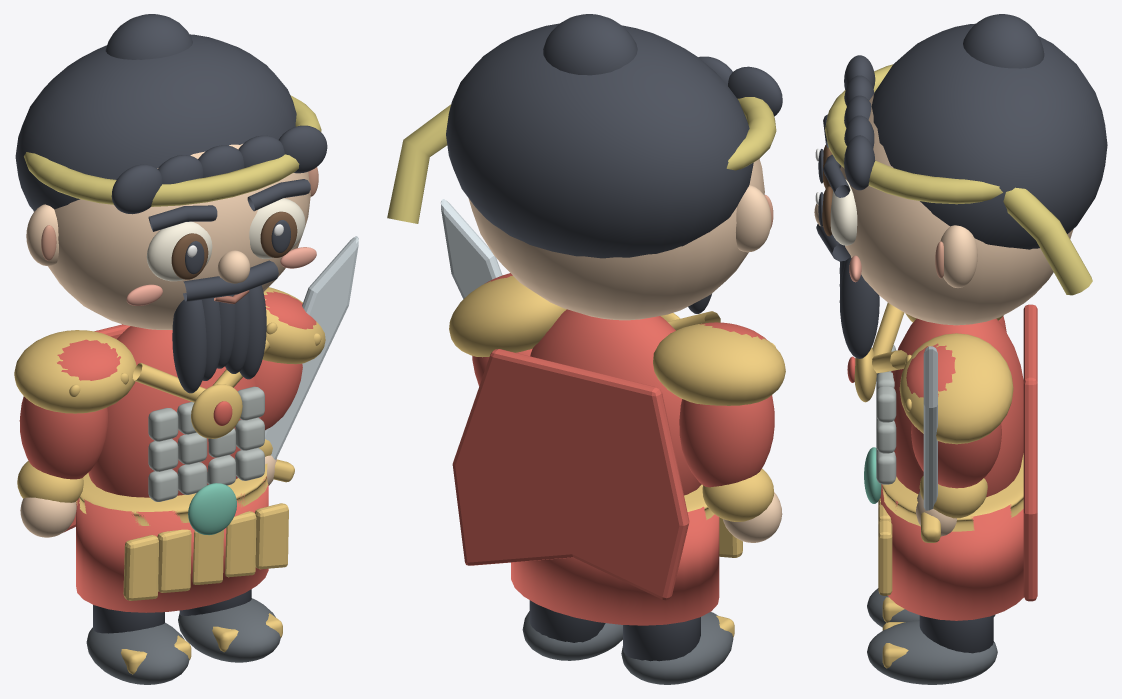
The model's file is bandit_king.fbx.
3 renders of one model, left to right at view 1: azimuth 30°, elevation 25°; view 2: azimuth 150°, elevation 25°; view 3: azimuth 270°, elevation 25°, orthographic. The views are drawn at different scales.
Parts seen in each view (by area): view 1: hair_mass, face, robe_skirt, body, headband, shoulder_gold.001, sleeve.001, dao_blade, boot, boot.001, hair_bun, belt (+49 smaller); view 2: hair_mass, cape, face, robe_skirt, shoulder_gold.001, body, sleeve.001, shoulder_gold, hair_bun, headband_tail, boot, dao_blade (+9 smaller); view 3: hair_mass, face, robe_skirt, shoulder_gold, body, boot.001, headband, cape, headband_tail, hair_bun, sleeve, beard_lock.004 (+25 smaller).
Part boxes in pixels (bbox=[...]): hair_mass: bbox=[15, 34, 296, 211]; face: bbox=[33, 144, 310, 329]; robe_skirt: bbox=[76, 476, 268, 612]; body: bbox=[88, 326, 260, 497]; headband: bbox=[24, 95, 321, 206]; shoulder_gold.001: bbox=[14, 330, 136, 413]; sleeve.001: bbox=[19, 396, 107, 479]; dao_blade: bbox=[265, 236, 358, 459]; boot: bbox=[86, 622, 189, 684]; boot.001: bbox=[178, 598, 280, 662]; hair_bun: bbox=[105, 14, 192, 59]; belt: bbox=[76, 463, 268, 525]; hair_mass: bbox=[446, 23, 753, 258]; cape: bbox=[452, 349, 689, 600]; face: bbox=[468, 159, 764, 320]; robe_skirt: bbox=[511, 506, 719, 625]; shoulder_gold.001: bbox=[653, 323, 785, 405]; body: bbox=[530, 309, 701, 495]; sleeve.001: bbox=[679, 395, 774, 487]; shoulder_gold: bbox=[449, 276, 566, 357]; hair_bun: bbox=[543, 14, 637, 75]; headband_tail: bbox=[387, 104, 450, 223]; boot: bbox=[621, 612, 733, 684]; dao_blade: bbox=[441, 199, 502, 298]; hair_mass: bbox=[871, 23, 1107, 249]; face: bbox=[840, 93, 1073, 325]; robe_skirt: bbox=[880, 484, 1023, 620]; shoulder_gold: bbox=[899, 333, 1013, 444]; body: bbox=[891, 318, 1023, 497]; boot.001: bbox=[867, 620, 997, 684]; headband: bbox=[825, 64, 1002, 204]; cape: bbox=[1023, 304, 1037, 601]; headband_tail: bbox=[1003, 187, 1092, 295]; hair_bun: bbox=[963, 14, 1044, 68]; sleeve: bbox=[911, 423, 1001, 488]; beard_lock.004: bbox=[839, 257, 879, 358].
Size of the model in its own units: 1.35 by 2.46 by 1.03.
